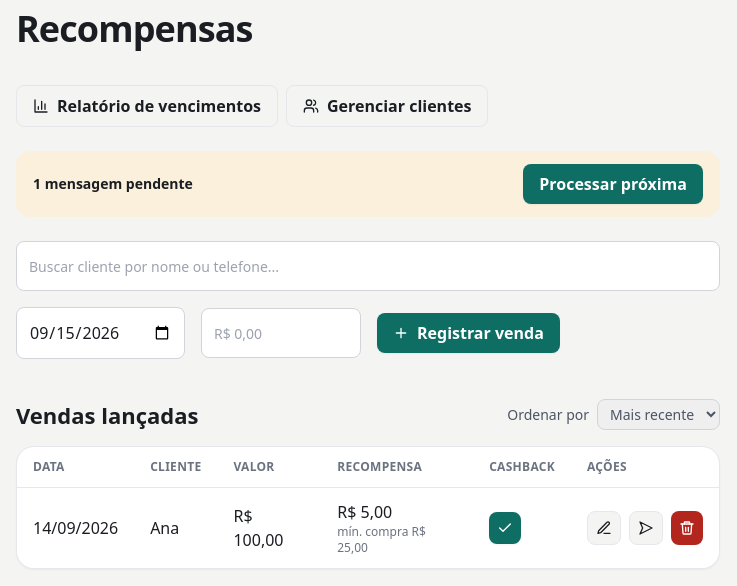
Scenario: RecompensasPage › refreshes the pending-messages count after a manual reminder is sent, so a resolved item stops showing
Expected: the text "1 mensagem pendente" is shown, x1=33 y1=174 x2=193 y2=194
Click the button named "Enviar lembrete" at (646, 528), box x1=629 y1=511 x2=663 y2=545
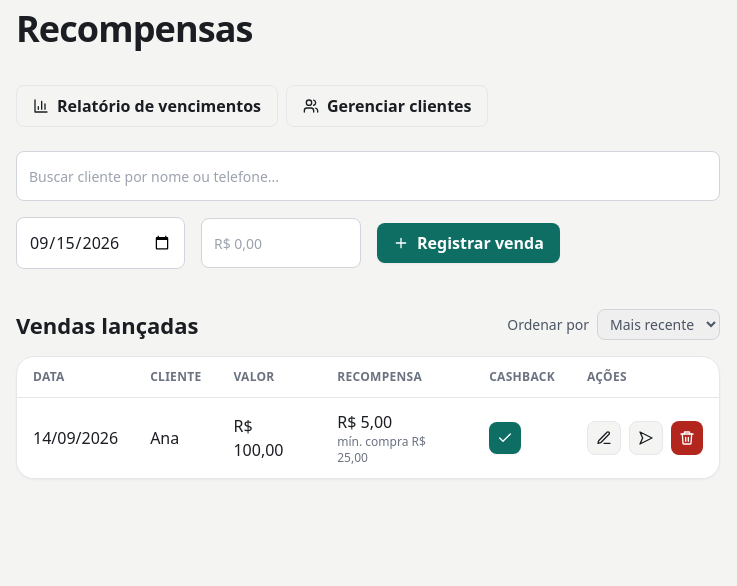
Now the text "mensagem pendente" is gone
